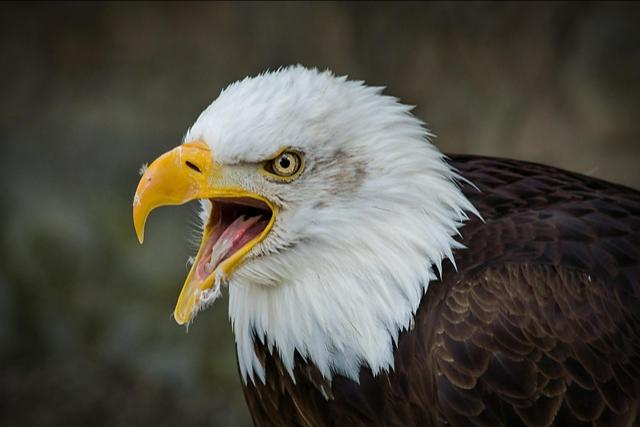Non_Gorille: (95, 2, 628, 427)
